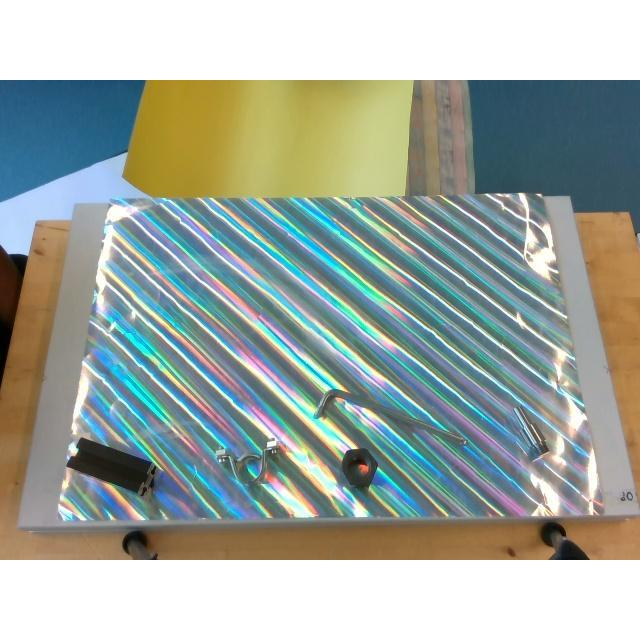AllenKey: (314, 389, 468, 445)
Axis2: (514, 405, 550, 459)
Housing: (215, 438, 281, 487)
M30: (341, 448, 377, 488)
S40_40_B: (66, 437, 156, 495)
